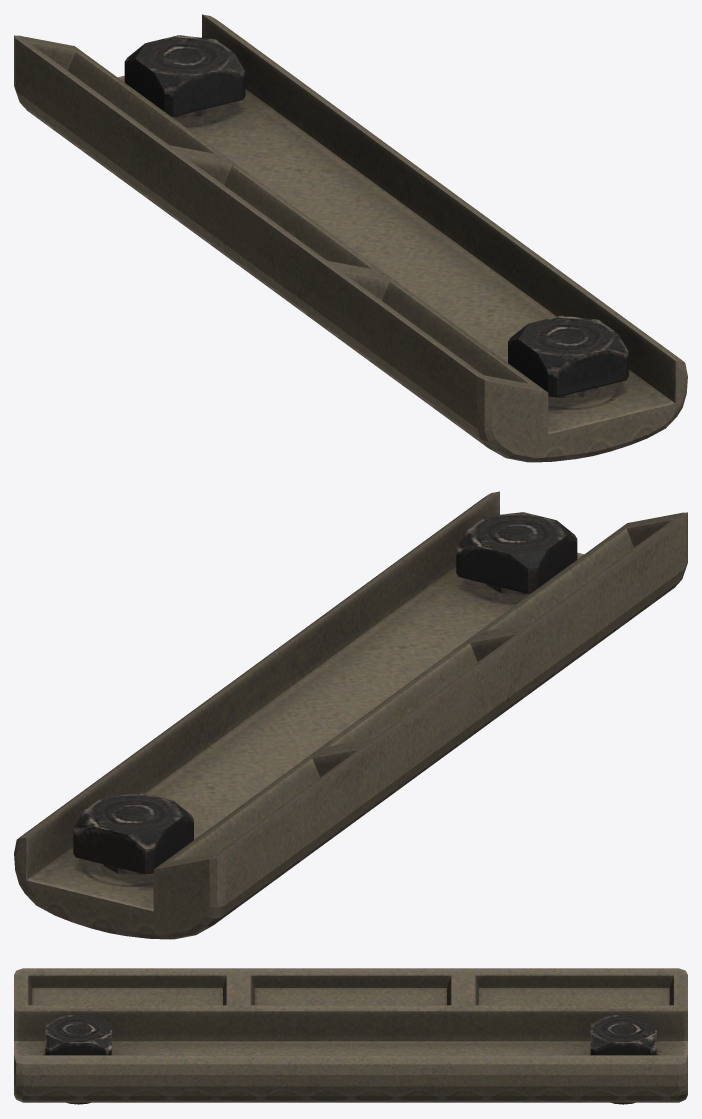
3 views of the same model, one above another, from view 1: azimuth 30°, elevation 25°; view 2: azimuth 150°, elevation 25°; view 3: azimuth 270°, elevation 25° (orthographic). The views are drawn at different scales.
Parts seen in each view (by area): view 1: TW_5d124c01d7ad1a115c7d59fb_PZ_Import; view 2: TW_5d124c01d7ad1a115c7d59fb_PZ_Import; view 3: TW_5d124c01d7ad1a115c7d59fb_PZ_Import.
Boxes of the visible parts, x1=… form: TW_5d124c01d7ad1a115c7d59fb_PZ_Import: x1=14, y1=14, x2=687, y2=462; TW_5d124c01d7ad1a115c7d59fb_PZ_Import: x1=14, y1=491, x2=687, y2=939; TW_5d124c01d7ad1a115c7d59fb_PZ_Import: x1=14, y1=968, x2=687, y2=1104.
Bounding box in the file's own units: 0.0145 × 0.0571 × 0.00759.
Materials: 1 (1 with a texture image).
